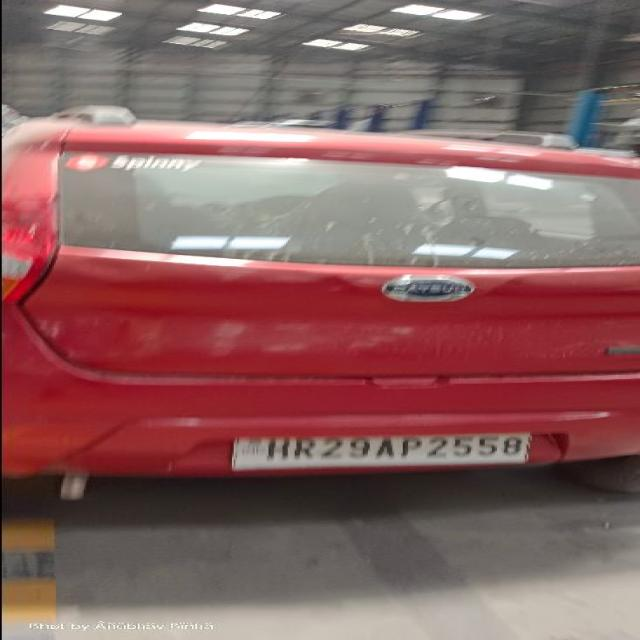license_plate: (228, 431, 534, 472)
